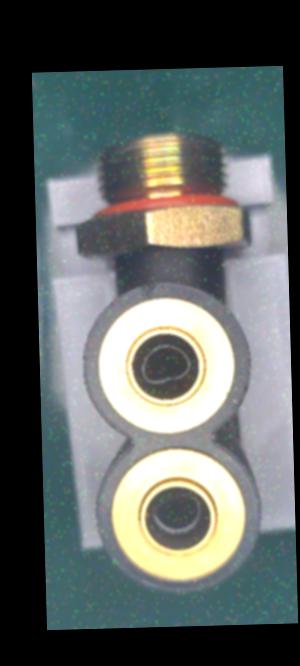bump: (130, 277, 162, 299)
off-centered: (141, 485, 206, 541), (131, 340, 197, 393)
